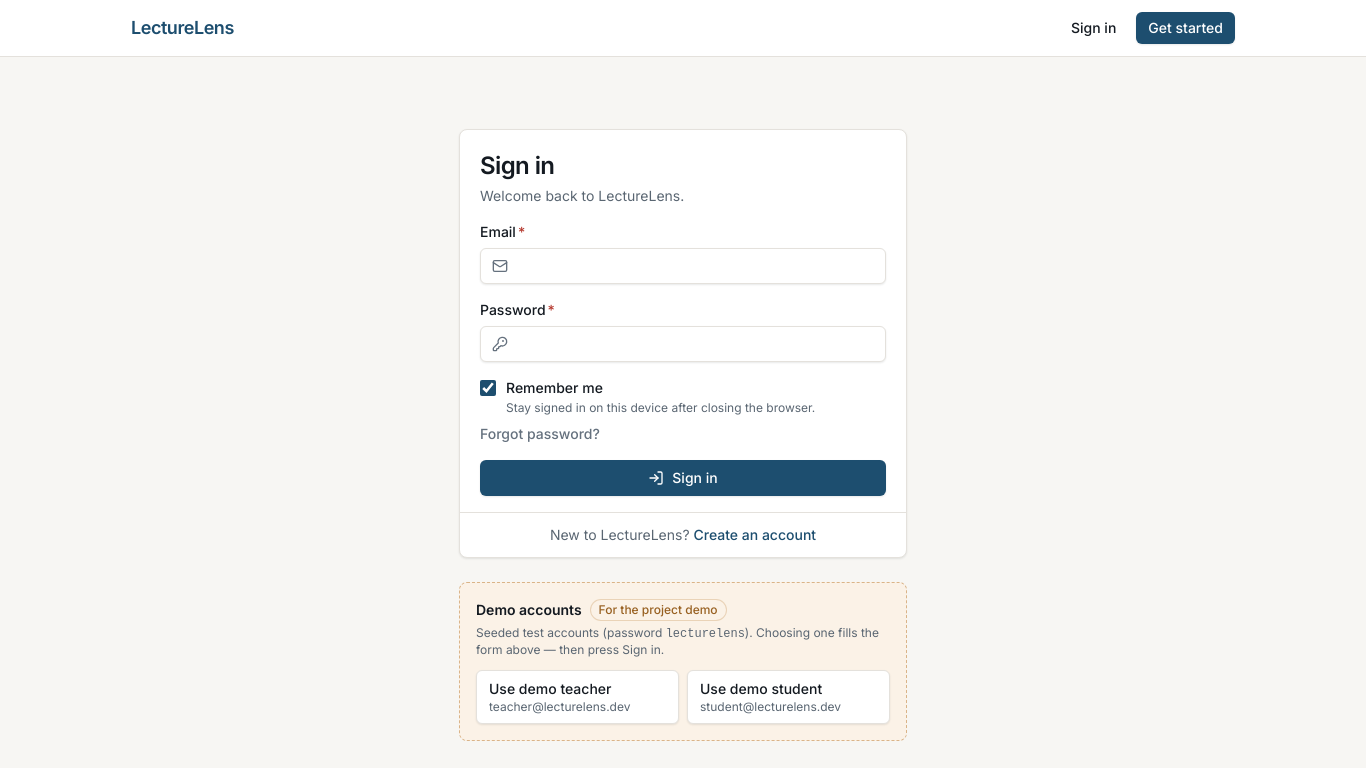
Test: login › has real labels and shows linked, icon + text field errors on an empty submit
Click the button "Sign in": [683, 478] box [480,460,886,496]
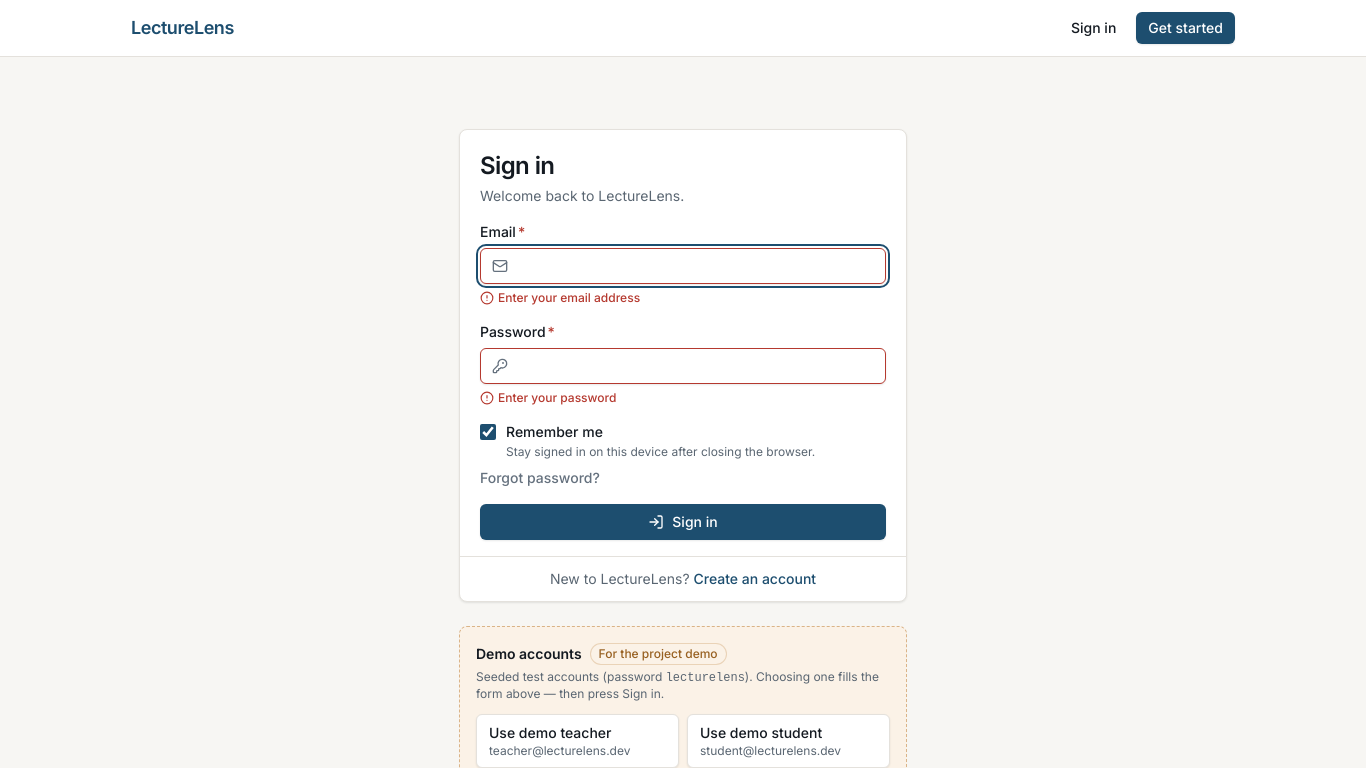
Expected: the text "Enter your email address" is shown, [498,290,640,306]
Expected: the text "Enter your password" is shown, [498,390,616,406]
Expected: the icon next to "Enter your email address" is shown, [480,291,494,305]
